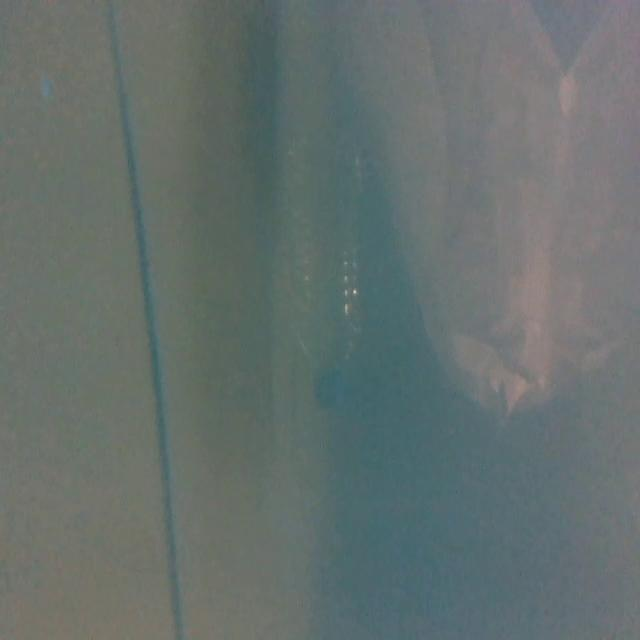plastic bags: (387, 3, 638, 432)
plastic bottle: (292, 134, 373, 414)
